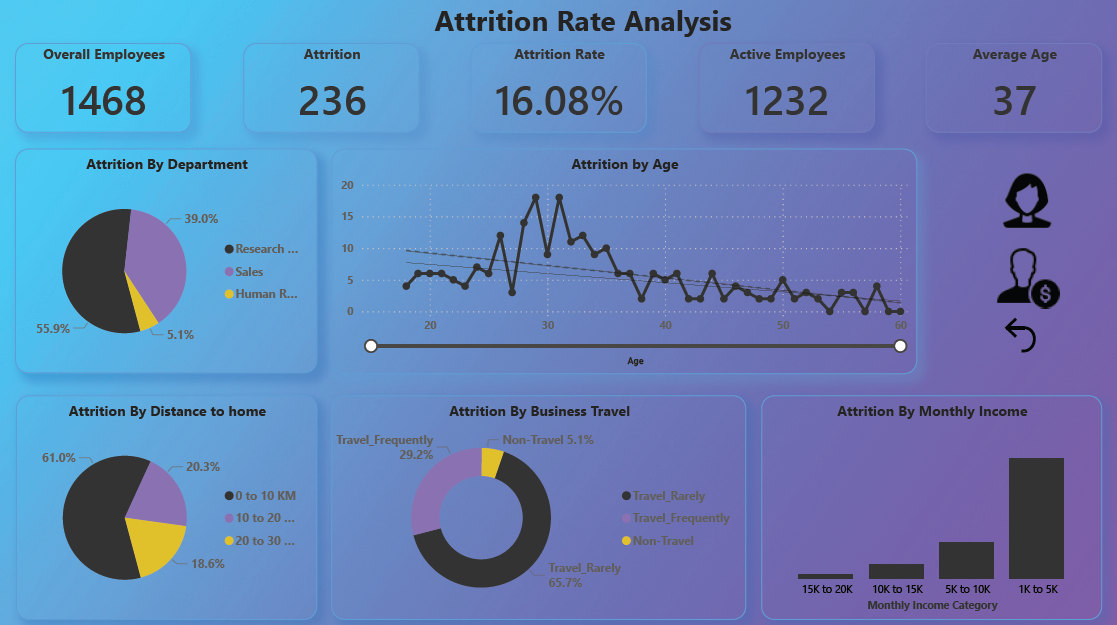

What the dashboard file says about the page in this screenshot:
{"tool":"powerbi","page":{"name":"Page 1","canvas":[1280,720],"ordinal":0},"visuals":[{"type":"card","title":"Overall Employees","fields":{"Values":["Sum(HR-Employee-Attrition.EmployeeCount)"]},"box":[17.1,54.3,200,101.4],"z":0},{"type":"pieChart","title":"Attrition By Department","fields":{"Category":["HR-Employee-Attrition.Department"],"Y":["Measure Table.Total Attrition"]},"box":[17.1,174.3,342.9,254.3],"z":1000},{"type":"card","title":"Active Employees","fields":{"Values":["Measure Table.Active Employees"]},"box":[792.9,54.3,200,101.4],"z":2000},{"type":"card","title":"Attrition","fields":{"Values":["Sum(HR-Employee-Attrition.Attrition Count)"]},"box":[275.7,54.3,200,101.4],"z":3000},{"type":"card","title":"Attrition Rate","fields":{"Values":["Measure Table.Attrition Rate"]},"box":[534.3,54.3,200,101.4],"z":4000},{"type":"card","title":"Average Age","fields":{"Values":["Avg(HR-Employee-Attrition.Age)"]},"box":[1051.4,54.3,200,101.4],"z":5000},{"type":"pieChart","title":"Attrition By Distance to home","fields":{"Y":["Measure Table.Total Attrition"],"Category":["HR-Employee-Attrition.Distance from home"]},"box":[17.6,454.4,342.6,254.4],"z":6000},{"type":"lineChart","title":"Attrition by Age","fields":{"Category":["HR-Employee-Attrition.Age"],"Y":["Measure Table.Total Attrition"]},"box":[375.7,174.3,665.7,255.7],"z":7000},{"type":"donutChart","title":"Attrition By Business Travel","fields":{"Y":["Measure Table.Total Attrition"],"Category":["HR-Employee-Attrition.BusinessTravel"]},"box":[375.7,454.3,471.4,254.3],"z":8000},{"type":"image","box":[1100,190,131.4,85.7],"z":9000},{"type":"image","box":[1100,275.7,131.4,84.3],"z":10000},{"type":"columnChart","title":"Attrition By Monthly Income","fields":{"Category":["HR-Employee-Attrition.Monthly Income Category"],"Y":["Measure Table.Total Attrition"]},"box":[864.3,454.3,387.1,254.3],"z":11000},{"type":"textbox","box":[331.4,0,661.4,54.3],"z":12000},{"type":"actionButton","title":"Clear Bookmaker","box":[1100,360,131.4,51.4],"z":13000}]}

Visuals, with their boxes in screenshot pixels (x1, y1, x2, y2), scaled from the page's 1280x720 canvas onto the 1117x625 screenshot:
"Overall Employees" card: <box>15,47,189,135</box>
"Attrition By Department" pieChart: <box>15,151,314,372</box>
"Active Employees" card: <box>692,47,866,135</box>
"Attrition" card: <box>241,47,415,135</box>
"Attrition Rate" card: <box>466,47,641,135</box>
"Average Age" card: <box>918,47,1092,135</box>
"Attrition By Distance to home" pieChart: <box>15,394,314,615</box>
"Attrition by Age" lineChart: <box>328,151,909,373</box>
"Attrition By Business Travel" donutChart: <box>328,394,739,615</box>
image: <box>960,165,1075,239</box>
image: <box>960,239,1075,312</box>
"Attrition By Monthly Income" columnChart: <box>754,394,1092,615</box>
textbox: <box>289,0,866,47</box>
"Clear Bookmaker" actionButton: <box>960,312,1075,357</box>
